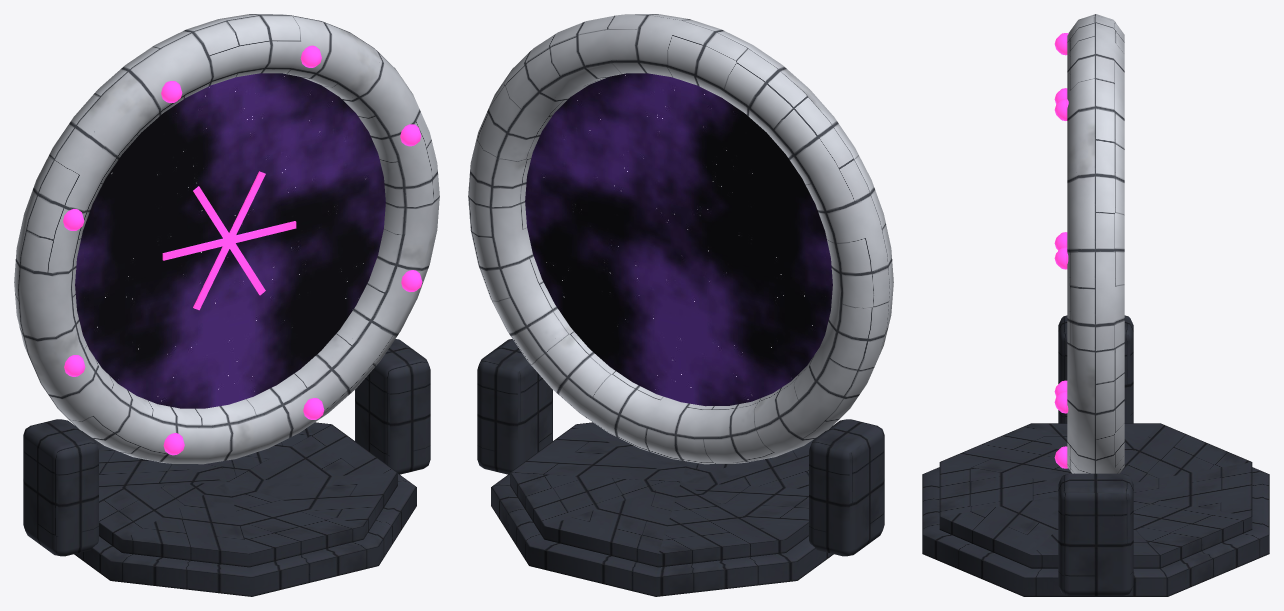
The model's file is sf_portal.glb.
The picture shows the model from 3 angles, left to right: view 1: azimuth 30°, elevation 25°; view 2: azimuth 150°, elevation 25°; view 3: azimuth 270°, elevation 25°; orthographic projection.
Parts seen in each view (by area): view 1: Base, Vortex; view 2: Base, Vortex; view 3: Base.
Part boxes in pixels (box(x1,y1,x2,y2)): Base: box(14, 14, 439, 596); Vortex: box(75, 73, 385, 408); Base: box(468, 14, 893, 596); Vortex: box(525, 73, 832, 406); Base: box(922, 14, 1269, 596).
Size of the model in its own units: 1.26 by 1.43 by 0.9239.
Materials: 5 (5 with a texture image).
